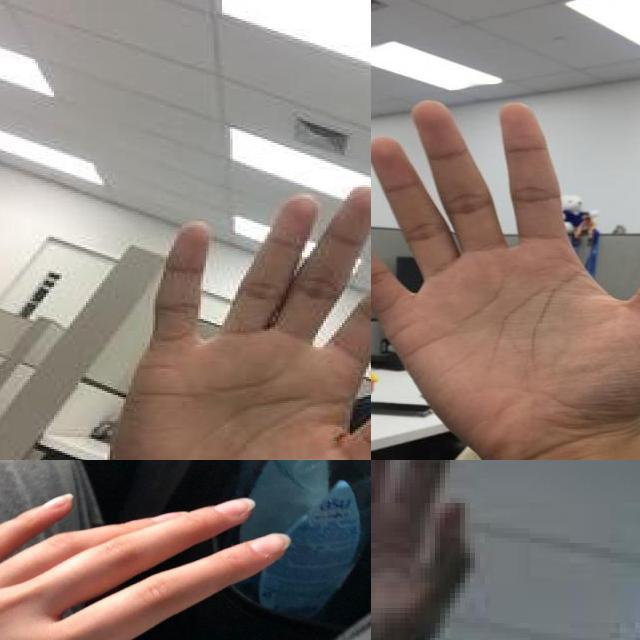no-gloves: (371, 97, 640, 453), (104, 183, 371, 460), (0, 492, 293, 640), (371, 460, 483, 640)
